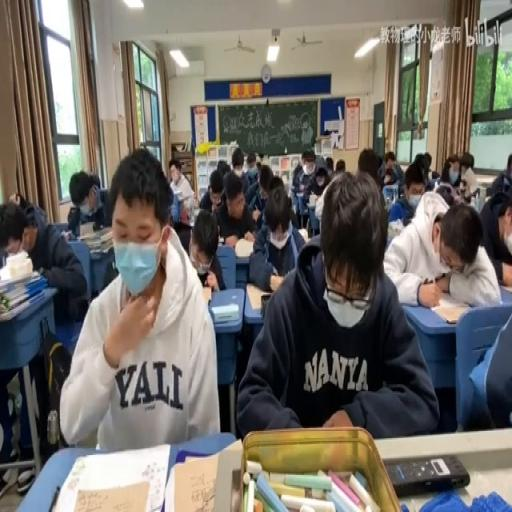calculator: (48, 442, 170, 511), (165, 452, 221, 512), (0, 289, 45, 320), (0, 268, 42, 294), (431, 297, 470, 323), (210, 302, 238, 324), (233, 236, 254, 258), (86, 239, 112, 253), (98, 226, 112, 243), (201, 283, 212, 302), (170, 186, 182, 202), (297, 226, 309, 240), (498, 279, 512, 290), (61, 228, 73, 240), (307, 196, 318, 206), (295, 189, 306, 198)
paper: (236, 169, 434, 438), (0, 193, 86, 486), (383, 188, 499, 307), (461, 291, 510, 431), (214, 168, 258, 246), (188, 206, 226, 292), (296, 148, 331, 225), (67, 168, 106, 234), (167, 155, 195, 246), (10, 192, 47, 230), (434, 158, 462, 205), (403, 152, 430, 199), (357, 146, 384, 190), (486, 154, 512, 198), (384, 151, 408, 193), (390, 186, 415, 222), (458, 165, 478, 199), (202, 180, 221, 208), (266, 172, 285, 194), (230, 149, 244, 175), (243, 156, 258, 180), (291, 162, 303, 189), (498, 202, 511, 226), (217, 159, 230, 179), (459, 152, 474, 168), (314, 171, 326, 189), (300, 150, 314, 164), (324, 155, 334, 171), (334, 158, 345, 171), (258, 151, 268, 165), (8, 192, 18, 202), (382, 174, 392, 184), (255, 158, 262, 171), (430, 171, 440, 179)
person: (386, 454, 470, 496), (259, 292, 272, 314), (217, 235, 224, 243)
